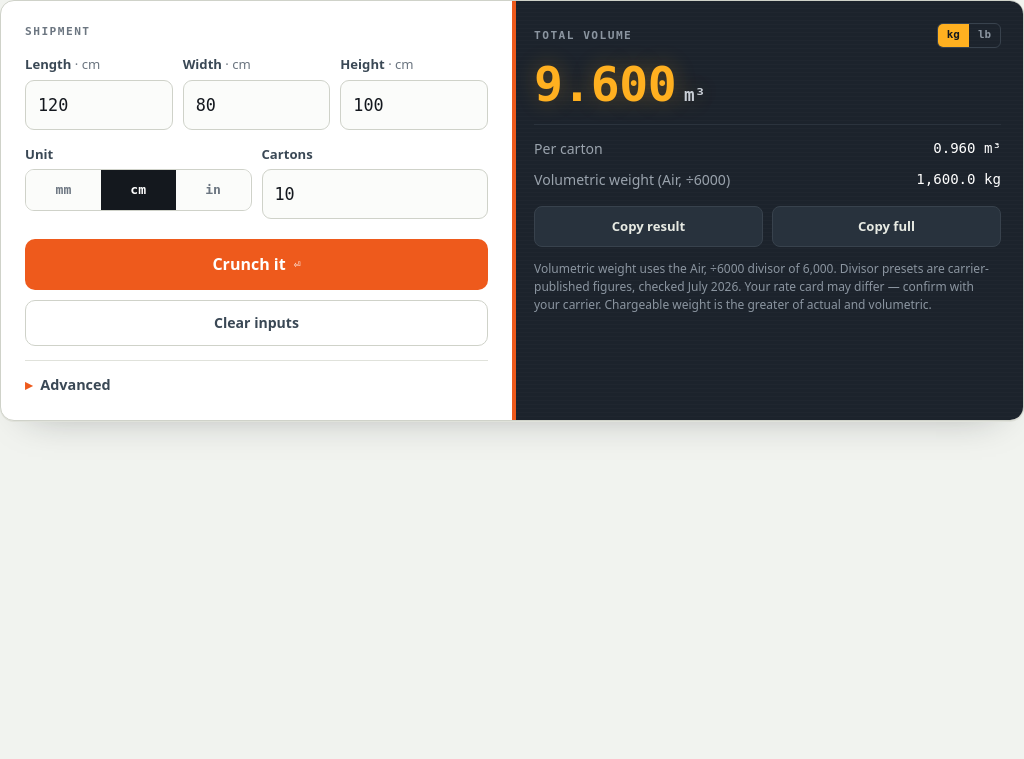
Test: CbmCalculator › sea mode shows revenue tonnes = max(CBM, tonnes)
Click the button "▸ Advanced" at (75, 384), box [25,360,488,396]
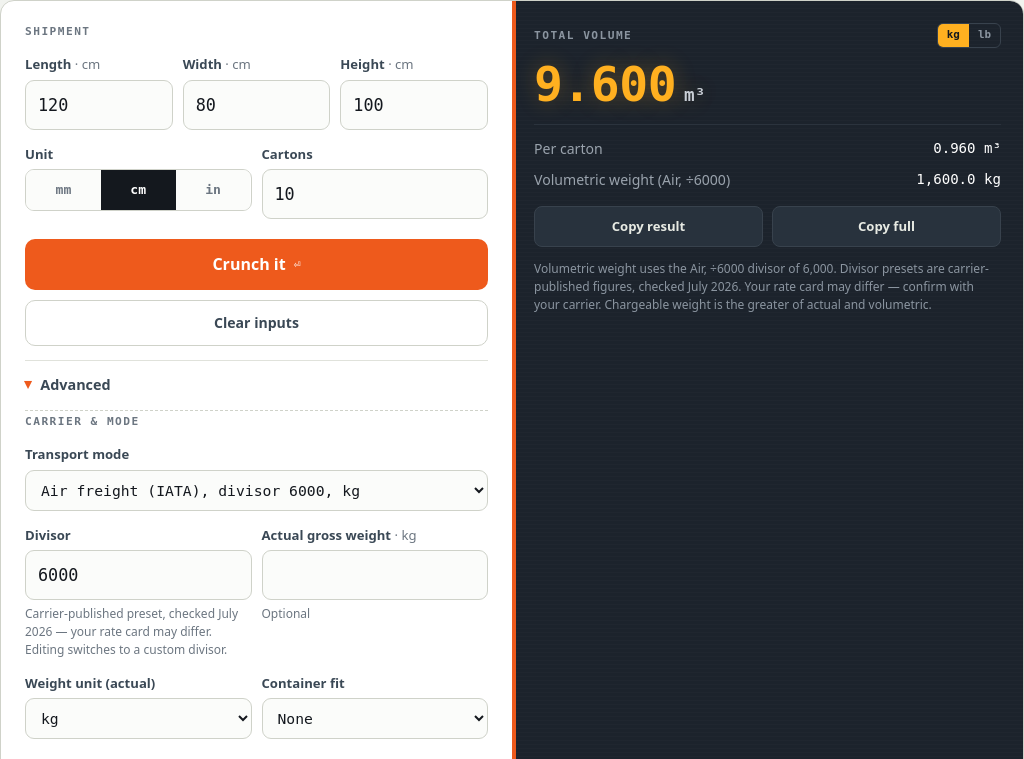
Select "Sea / LCL, per CBM or tonne" in the dropdown labelled "Transport mode" at (256, 490), box [25,470,488,511]
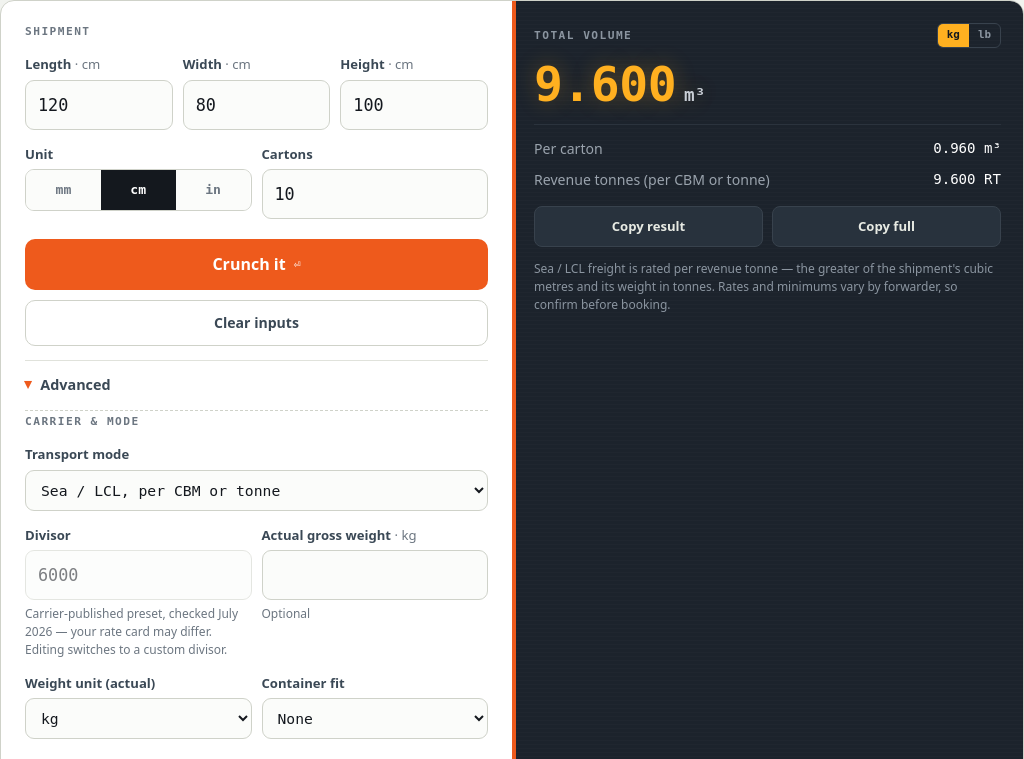
expect the text with test id "result-VW" reads "9.600 RT": met, box [933,171,1001,187]
expect the number field labelled "Divisor" is disabled: met, box [25,550,252,600]
Type "12000" into the number field labelled "Actual gross weight" at (375, 575), box [262,550,488,600]
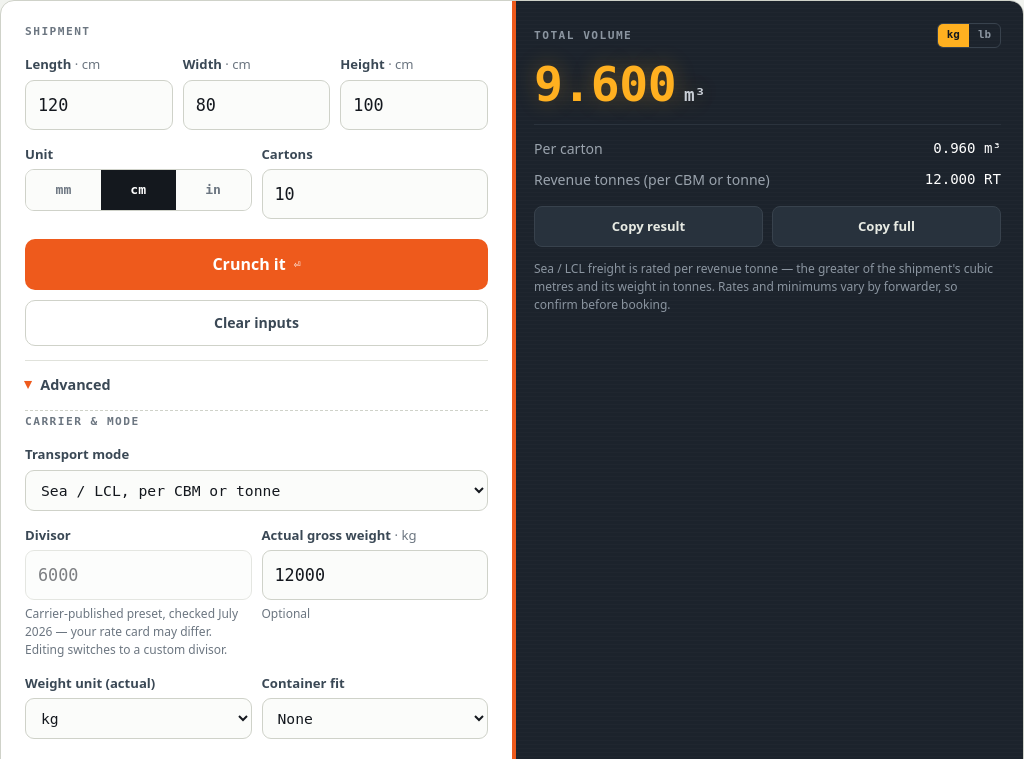
expect the text with test id "result-VW" reads "12.000 RT": met, box [925,171,1001,187]
